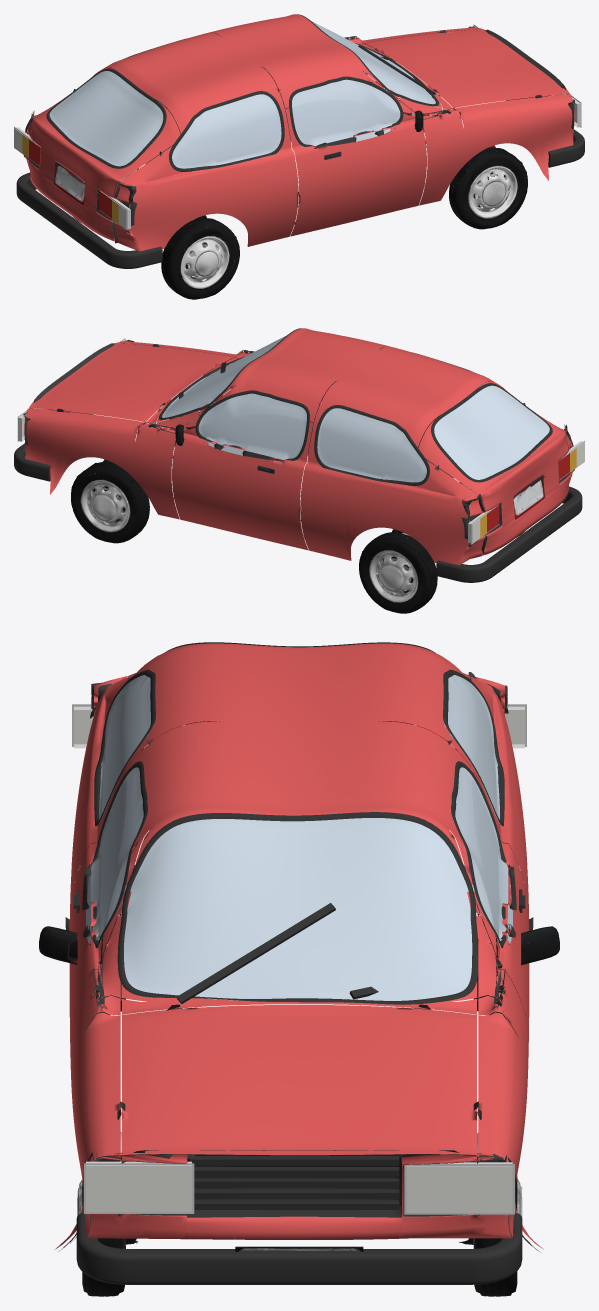
Rendered from hatch-quadrado-v2_limpa.glb.
3 renders of one model, top to bottom at view 1: azimuth 30°, elevation 25°; view 2: azimuth 150°, elevation 25°; view 3: azimuth 270°, elevation 25°, orthographic. The views are drawn at different scales.
Visible parts, largest first — view 1: body, door_fr, hood, fender_front_right, trunk, glass_rear, glass_door_rr, glass_door_fr, bumper_rear, wheel_rr_tire, wheel_fr_tire, wheel_fr_rim (+7 smaller); view 2: body, door_fl, hood, fender_front_left, trunk, glass_rear, glass_door_rl, glass_door_fl, bumper_rear, wheel_rl_tire, wheel_fl_tire, wheel_fl_rim (+7 smaller); view 3: body, glass_windshield, hood, bumper_front, grille, fender_front_right, fender_front_left, headlight_left, headlight_right, glass_door_fr, glass_door_fl, glass_door_rl (+10 smaller).
Boxes of the visible parts, box(x1,y1,x2,y2) form: body: box(23, 14, 574, 251); door_fr: box(285, 108, 426, 236); hood: box(365, 28, 569, 108); fender_front_right: box(419, 94, 574, 205); trunk: box(27, 39, 284, 243); glass_rear: box(49, 71, 163, 166); glass_door_rr: box(172, 93, 281, 168); glass_door_fr: box(292, 79, 400, 146); bumper_rear: box(16, 172, 162, 268); wheel_rr_tire: box(161, 215, 239, 299); wheel_fr_tire: box(449, 145, 527, 229); wheel_fr_rim: box(468, 163, 517, 217); body: box(23, 328, 574, 565); door_fl: box(172, 422, 313, 550); hood: box(29, 342, 233, 421); fender_front_left: box(24, 407, 179, 519); trunk: box(314, 353, 571, 555); glass_rear: box(434, 385, 549, 479); glass_door_rl: box(317, 407, 426, 482); glass_door_fl: box(198, 393, 306, 460); bumper_rear: box(436, 486, 582, 582); wheel_rl_tire: box(359, 529, 437, 613); wheel_fl_tire: box(71, 459, 149, 543); wheel_fl_rim: box(81, 478, 130, 531); body: box(65, 643, 533, 1239); glass_windshield: box(118, 818, 479, 1000); hood: box(117, 1005, 481, 1154); bumper_front: box(76, 1213, 522, 1284); grille: box(189, 1156, 399, 1209); fender_front_right: box(55, 972, 125, 1251); fender_front_left: box(473, 972, 543, 1252); headlight_left: box(404, 1162, 514, 1214); headlight_right: box(84, 1161, 194, 1213); glass_door_fr: box(86, 767, 148, 946); glass_door_fl: box(450, 767, 512, 946); glass_door_rl: box(444, 675, 501, 825).
Bounding box in the file's own units: 3.85 × 1.44 × 1.83.
Materials: 12 (3 with a texture image).
